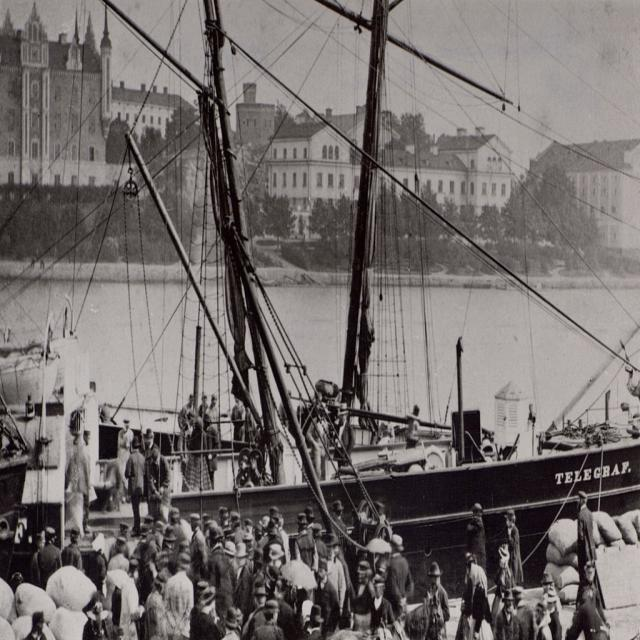Boat: (14, 21, 640, 628)
